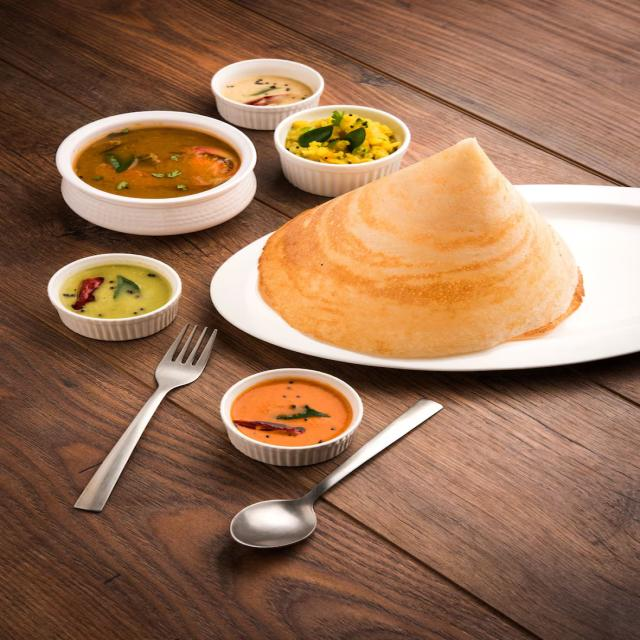DOSA: (249, 139, 598, 371)
KURMA: (49, 255, 186, 324)
RED CHUTNEY: (216, 371, 366, 452)
SAMBAR: (59, 118, 257, 203)
VEGGIES: (280, 106, 419, 169)
WHITE CHUTNEY: (209, 58, 323, 117)
